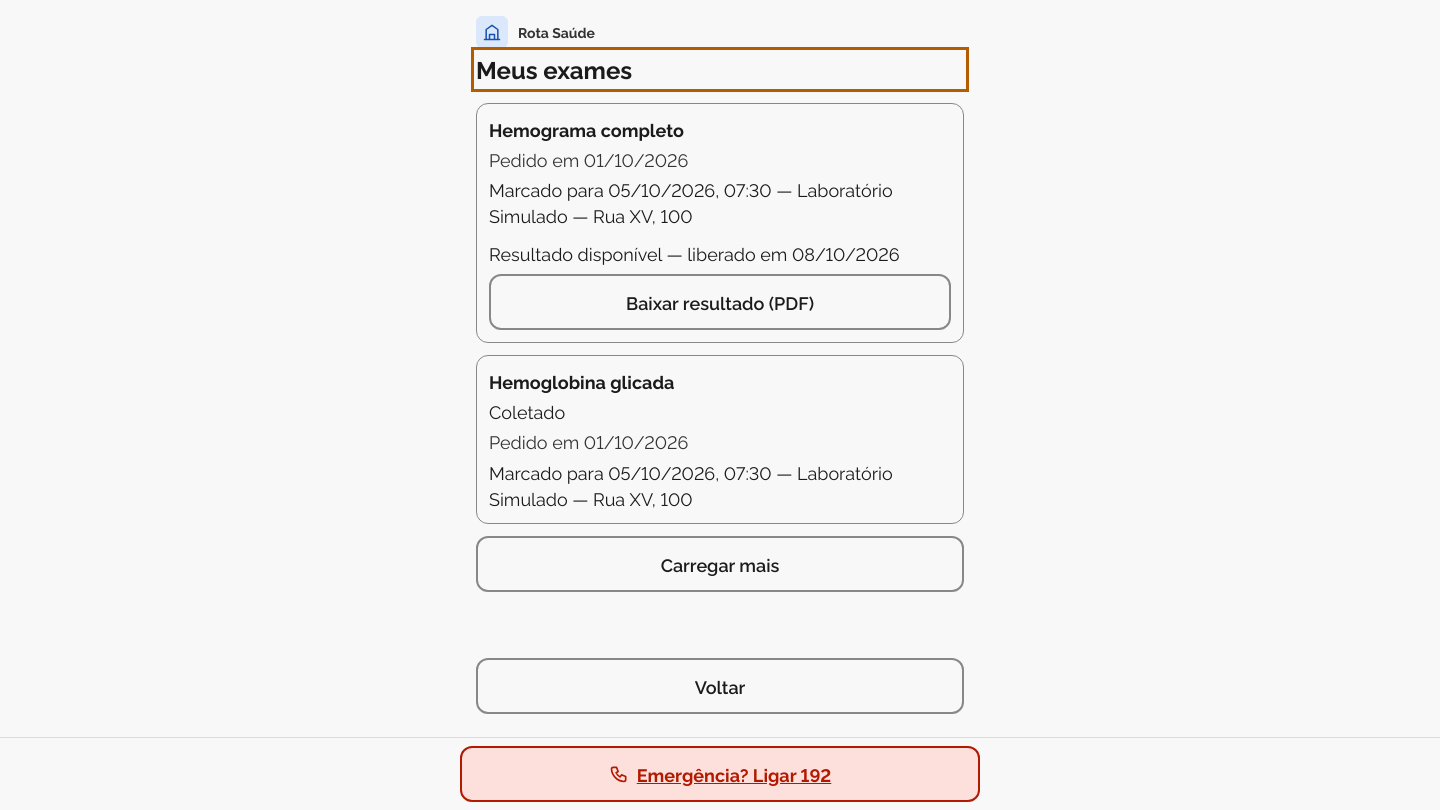
Scenario: MyExamsStep › carregar mais: cursor como veio, sem repetir; a falha aparece junto do botão
Expected: the list item "Hemoglobina glicada" is shown, [476,355,964,524]
Click the button "Carregar mais".
click(720, 564)  # box [476,536,964,592]
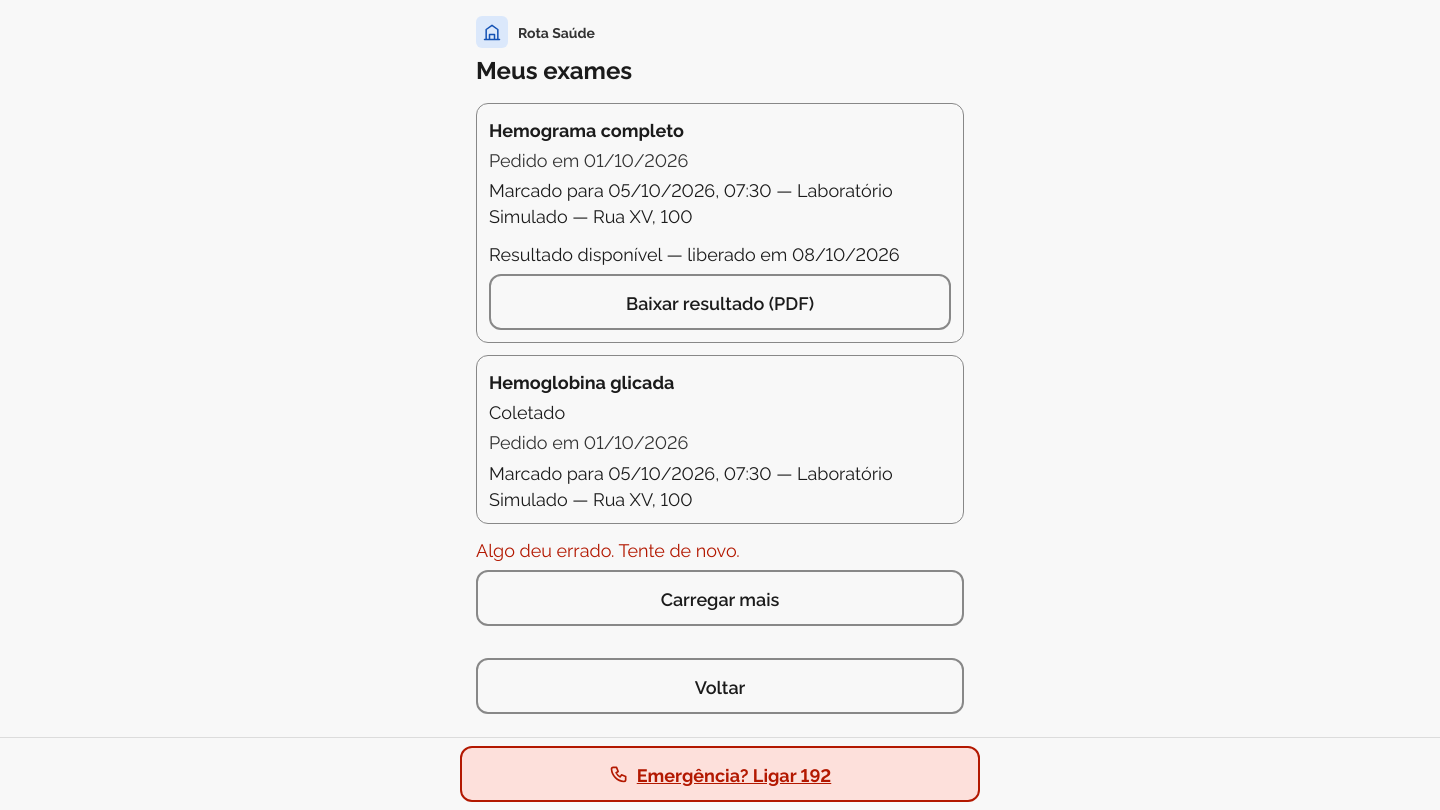
Result: the message "Algo deu errado. Tente de novo." is shown at [476,536,740,561]
Click the button "Carregar mais".
click(720, 598)  # box [476,570,964,626]
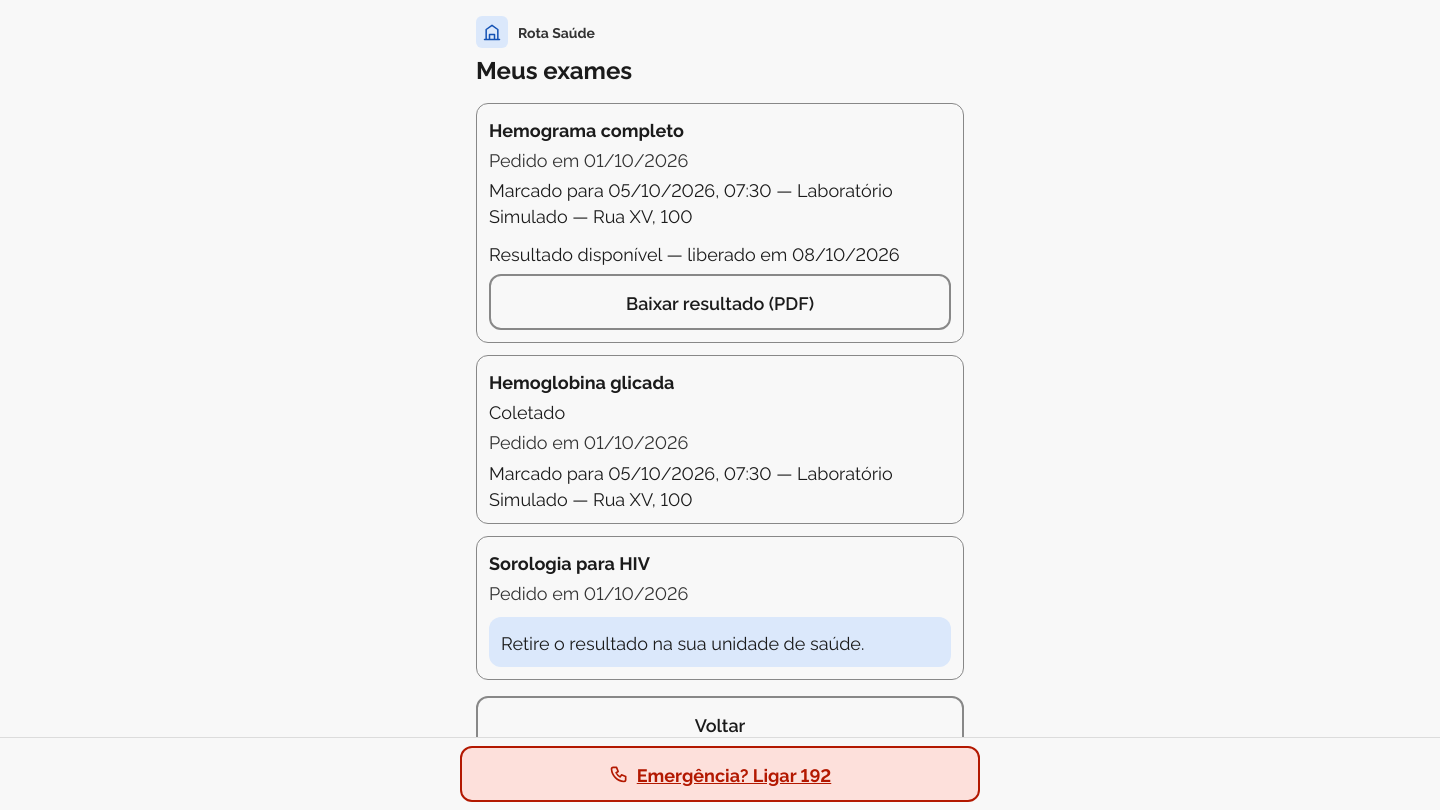
Result: the list item "Sorologia para HIV" is shown at [476,536,964,680]
Result: the message "Algo deu errado. Tente de novo." is gone
Result: the button "Carregar mais" is gone
